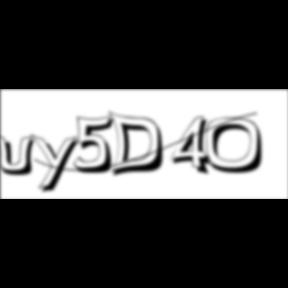4: (171, 115, 218, 179)
5: (74, 114, 120, 176)
D: (108, 110, 172, 180)
O: (206, 117, 270, 176)
u: (0, 132, 42, 178)
y: (31, 132, 85, 196)
